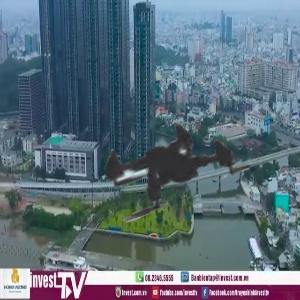drone: (38, 30, 292, 284)
